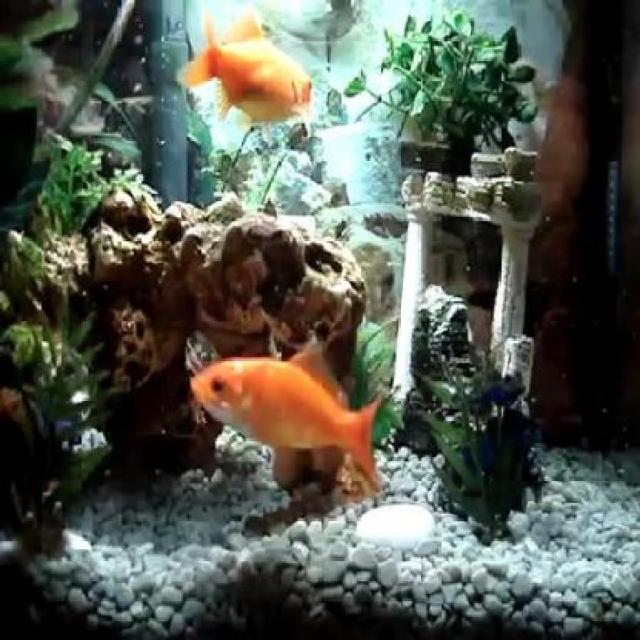GoldFish: (192, 343, 383, 492), (180, 14, 318, 134)
